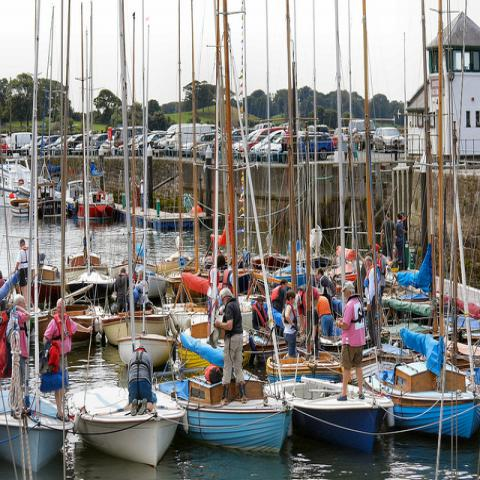car: (1, 119, 378, 155), (241, 127, 287, 152), (299, 132, 336, 161), (373, 127, 405, 152), (114, 126, 152, 147), (250, 130, 286, 152), (232, 128, 264, 152), (138, 133, 166, 156), (44, 136, 72, 151), (92, 133, 108, 157), (308, 123, 331, 136), (67, 134, 83, 148), (182, 140, 194, 151)
truck: (166, 124, 215, 156), (348, 119, 376, 150)
